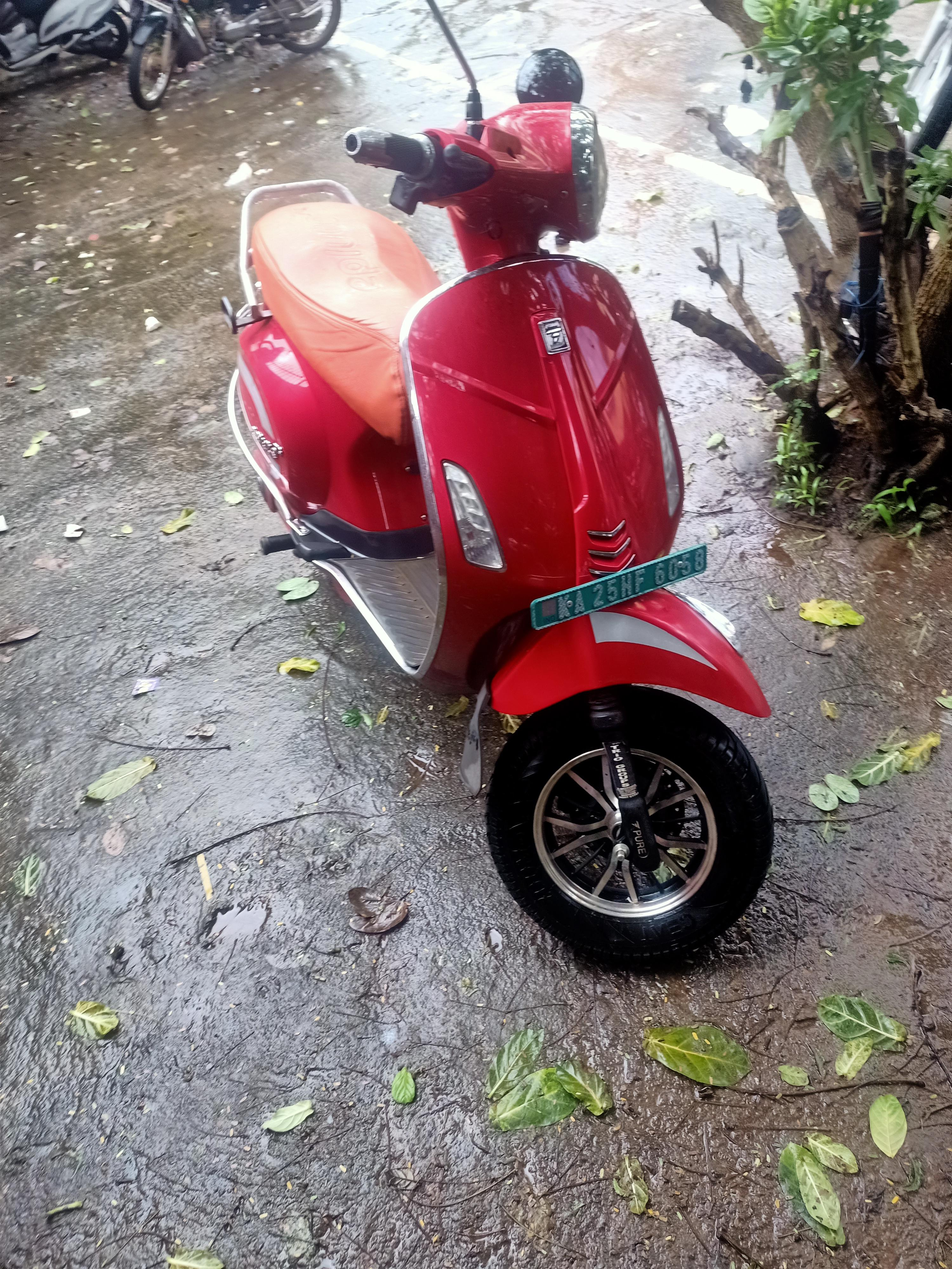green license plate: (524, 540, 704, 631)
